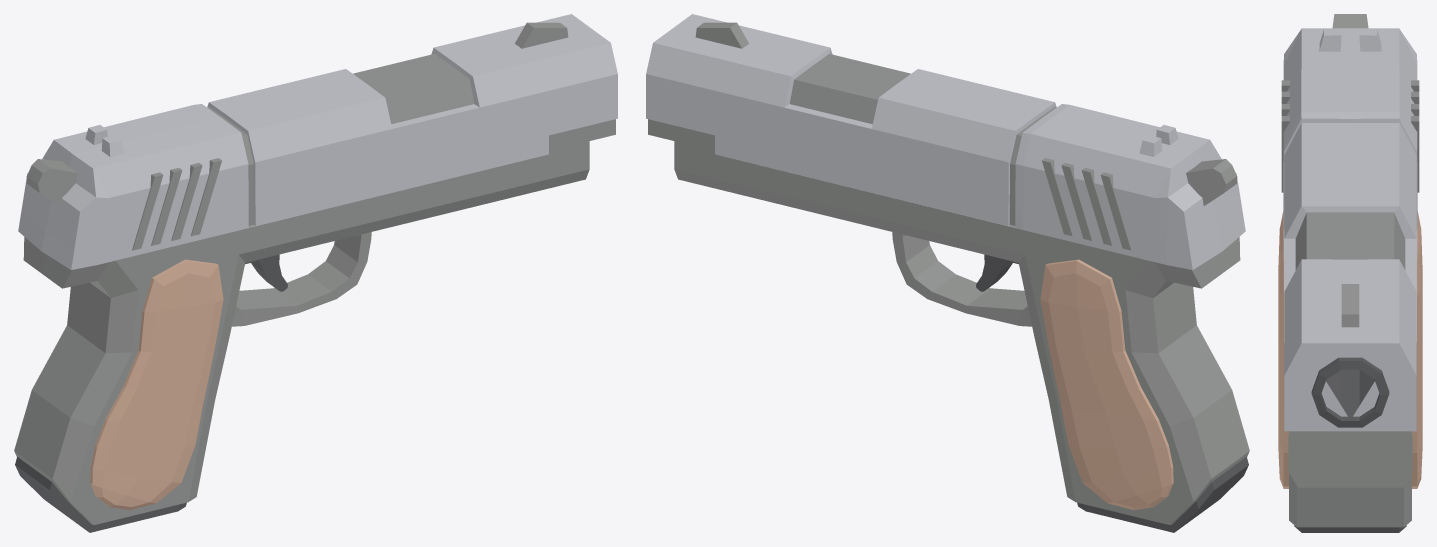
Rendered from Pistol_2.glb.
The picture shows the model from 3 angles, left to right: view 1: azimuth 30°, elevation 25°; view 2: azimuth 150°, elevation 25°; view 3: azimuth 270°, elevation 25°; orthographic projection. The views are drawn at different scales.
Visible parts, largest first — view 1: Pistol_2_LightMetal (×8), Pistol_2_Metal (×11), Pistol_2_Wood, Pistol_2_Black; view 2: Pistol_2_LightMetal (×8), Pistol_2_Metal (×11), Pistol_2_Wood, Pistol_2_Black; view 3: Pistol_2_LightMetal (×10), Pistol_2_Metal (×7), Pistol_2_Black (×3), Pistol_2_Wood.
Boxes of the visible parts, x1,y1,x2,y2 form: Pistol_2_LightMetal (×8): (18, 14, 617, 269); Pistol_2_Metal (×11): (14, 22, 615, 524); Pistol_2_Wood: (90, 259, 223, 510); Pistol_2_Black: (32, 469, 186, 532); Pistol_2_LightMetal (×8): (646, 14, 1245, 269); Pistol_2_Metal (×11): (648, 22, 1249, 524); Pistol_2_Wood: (1040, 259, 1173, 510); Pistol_2_Black: (1077, 469, 1231, 532); Pistol_2_LightMetal (×10): (1283, 28, 1417, 431); Pistol_2_Metal (×7): (1281, 14, 1419, 527); Pistol_2_Black (×3): (1302, 357, 1398, 532); Pistol_2_Wood: (1278, 211, 1422, 488).
Bounding box in the file's own units: 182 × 116 × 32.32.
